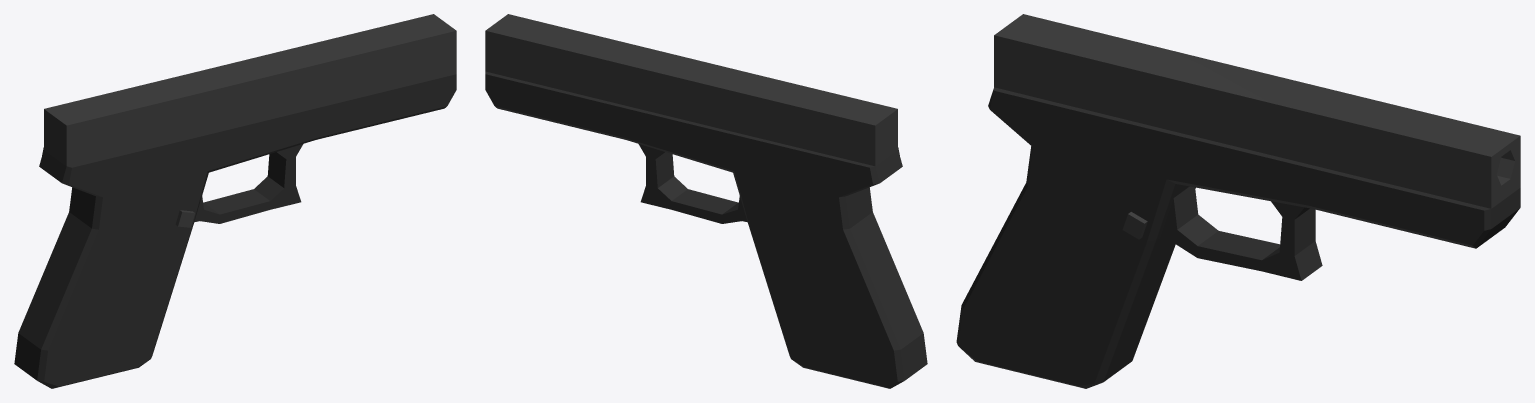
File: Pistol4_05.fbx
3 renders of one model, left to right at view 1: azimuth 30°, elevation 25°; view 2: azimuth 150°, elevation 25°; view 3: azimuth 330°, elevation 25°, orthographic. The views are drawn at different scales.
Parts seen in each view (by area): view 1: Pistol4_05; view 2: Pistol4_05; view 3: Pistol4_05.
Part boxes in pixels (box(x1,y1,x2,y2)): Pistol4_05: box(14, 14, 456, 388); Pistol4_05: box(485, 14, 927, 388); Pistol4_05: box(956, 14, 1520, 388).
Bounding box in the file's own units: 0.2392 × 0.1415 × 0.0305.
